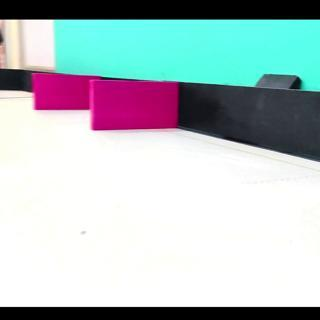xparking: (93, 83, 178, 131), (35, 77, 89, 109)
